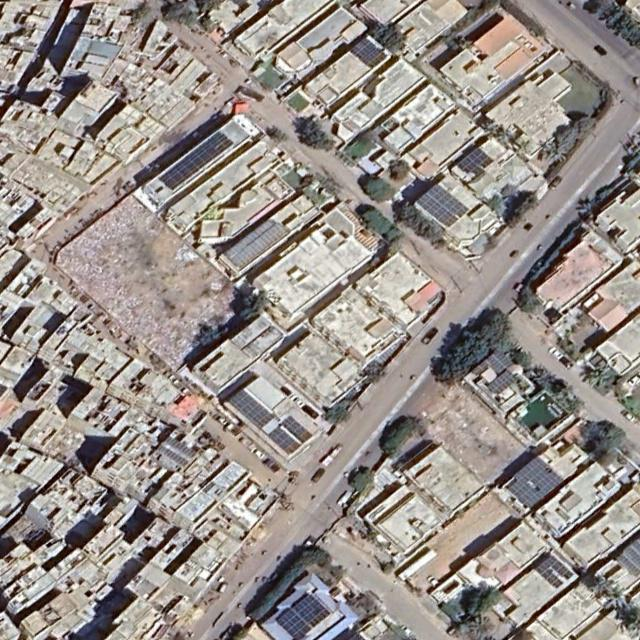solar panel: (160, 129, 232, 191), (502, 451, 565, 512), (223, 211, 289, 269), (415, 181, 470, 231), (228, 388, 276, 432), (533, 552, 574, 591), (293, 592, 331, 630), (264, 424, 303, 461), (275, 606, 312, 640), (348, 34, 383, 68), (616, 537, 640, 580), (457, 146, 490, 176), (487, 369, 515, 396), (279, 414, 308, 440), (156, 445, 190, 466), (165, 437, 197, 459), (486, 348, 512, 375)
